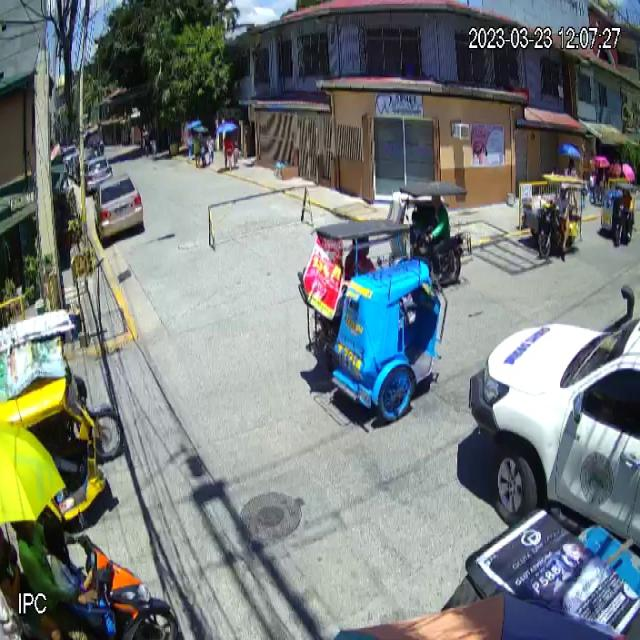Car: (93, 172, 145, 242)
Tricycle: (298, 214, 451, 420), (0, 308, 126, 532)
